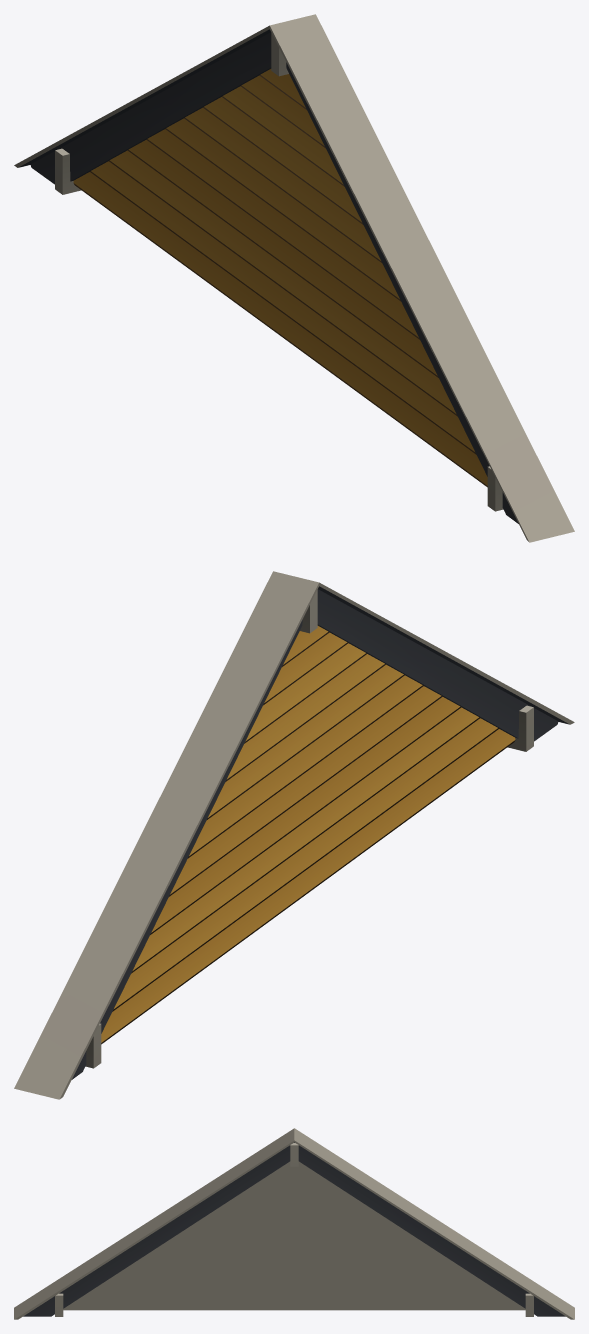
Rendered from TSP_House_Wall_Roof_05B.fbx.
3 views of the same model, one above another, from view 1: azimuth 30°, elevation 25°; view 2: azimuth 150°, elevation 25°; view 3: azimuth 270°, elevation 25° (orthographic). The views are drawn at different scales.
Parts seen in each view (by area): view 1: TSP_House_Wall_Roof_05B; view 2: TSP_House_Wall_Roof_05B; view 3: TSP_House_Wall_Roof_05B.
Part boxes in pixels (x1,y1,x2,y2): TSP_House_Wall_Roof_05B: (14, 14, 574, 542); TSP_House_Wall_Roof_05B: (14, 571, 574, 1099); TSP_House_Wall_Roof_05B: (14, 1128, 574, 1319).
Bounding box in the file's own units: 0.5066 × 3.36 × 9.54.
